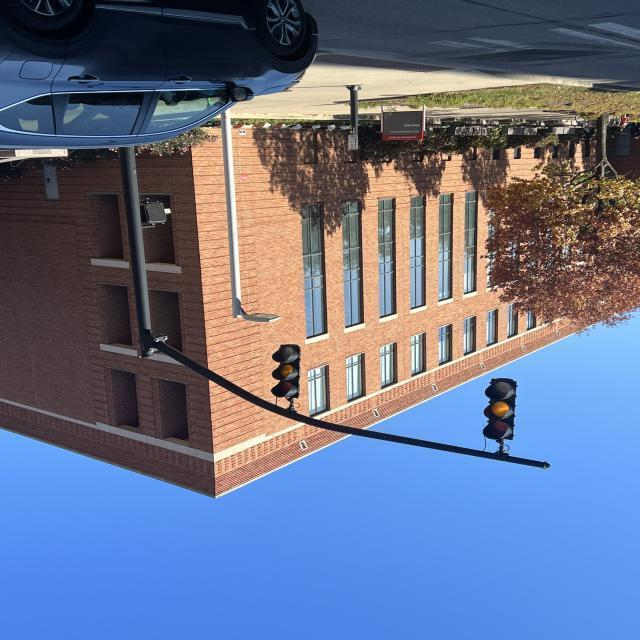yellow_light: (483, 371, 525, 454), (272, 338, 310, 406)
